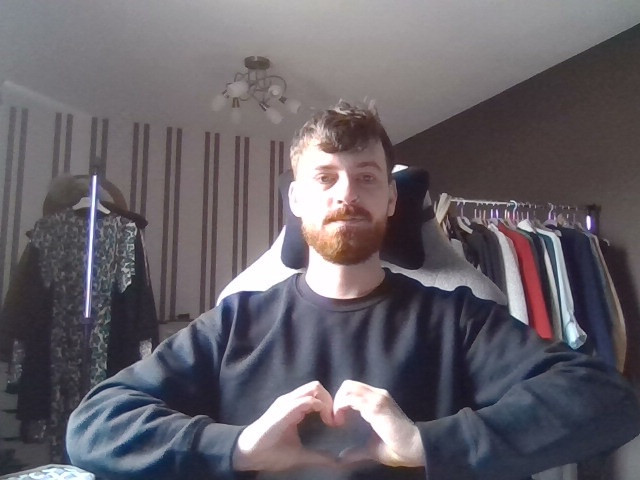Love: (229, 368, 430, 474)
